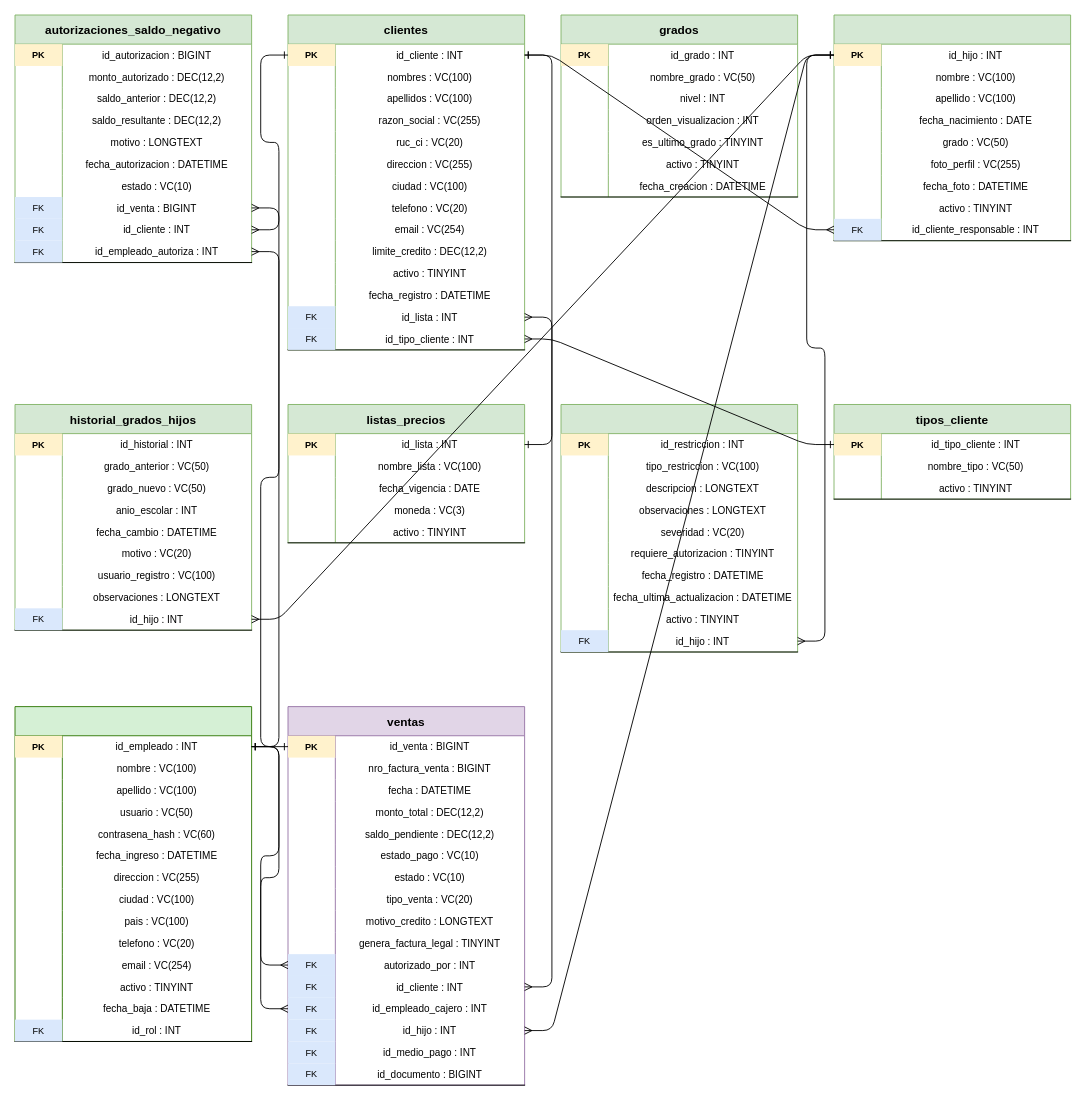
Some shapes in this 1086 by 1100 pixel diagram are drawn without their labels. The box of each missing label's shape, as (x1, y1, x2, y2) in pixels:
empleados: (14, 706, 252, 1041)
hijos: (833, 14, 1071, 241)
restricciones_hijos: (560, 404, 798, 652)
